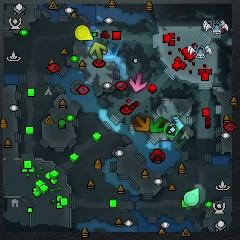p2: (183, 187, 200, 207)
p4: (74, 25, 94, 41)
x1: (129, 74, 147, 93)
x2: (88, 41, 107, 60)
x3: (168, 117, 184, 131)
x4: (150, 117, 166, 134)
x5: (135, 115, 150, 133)
